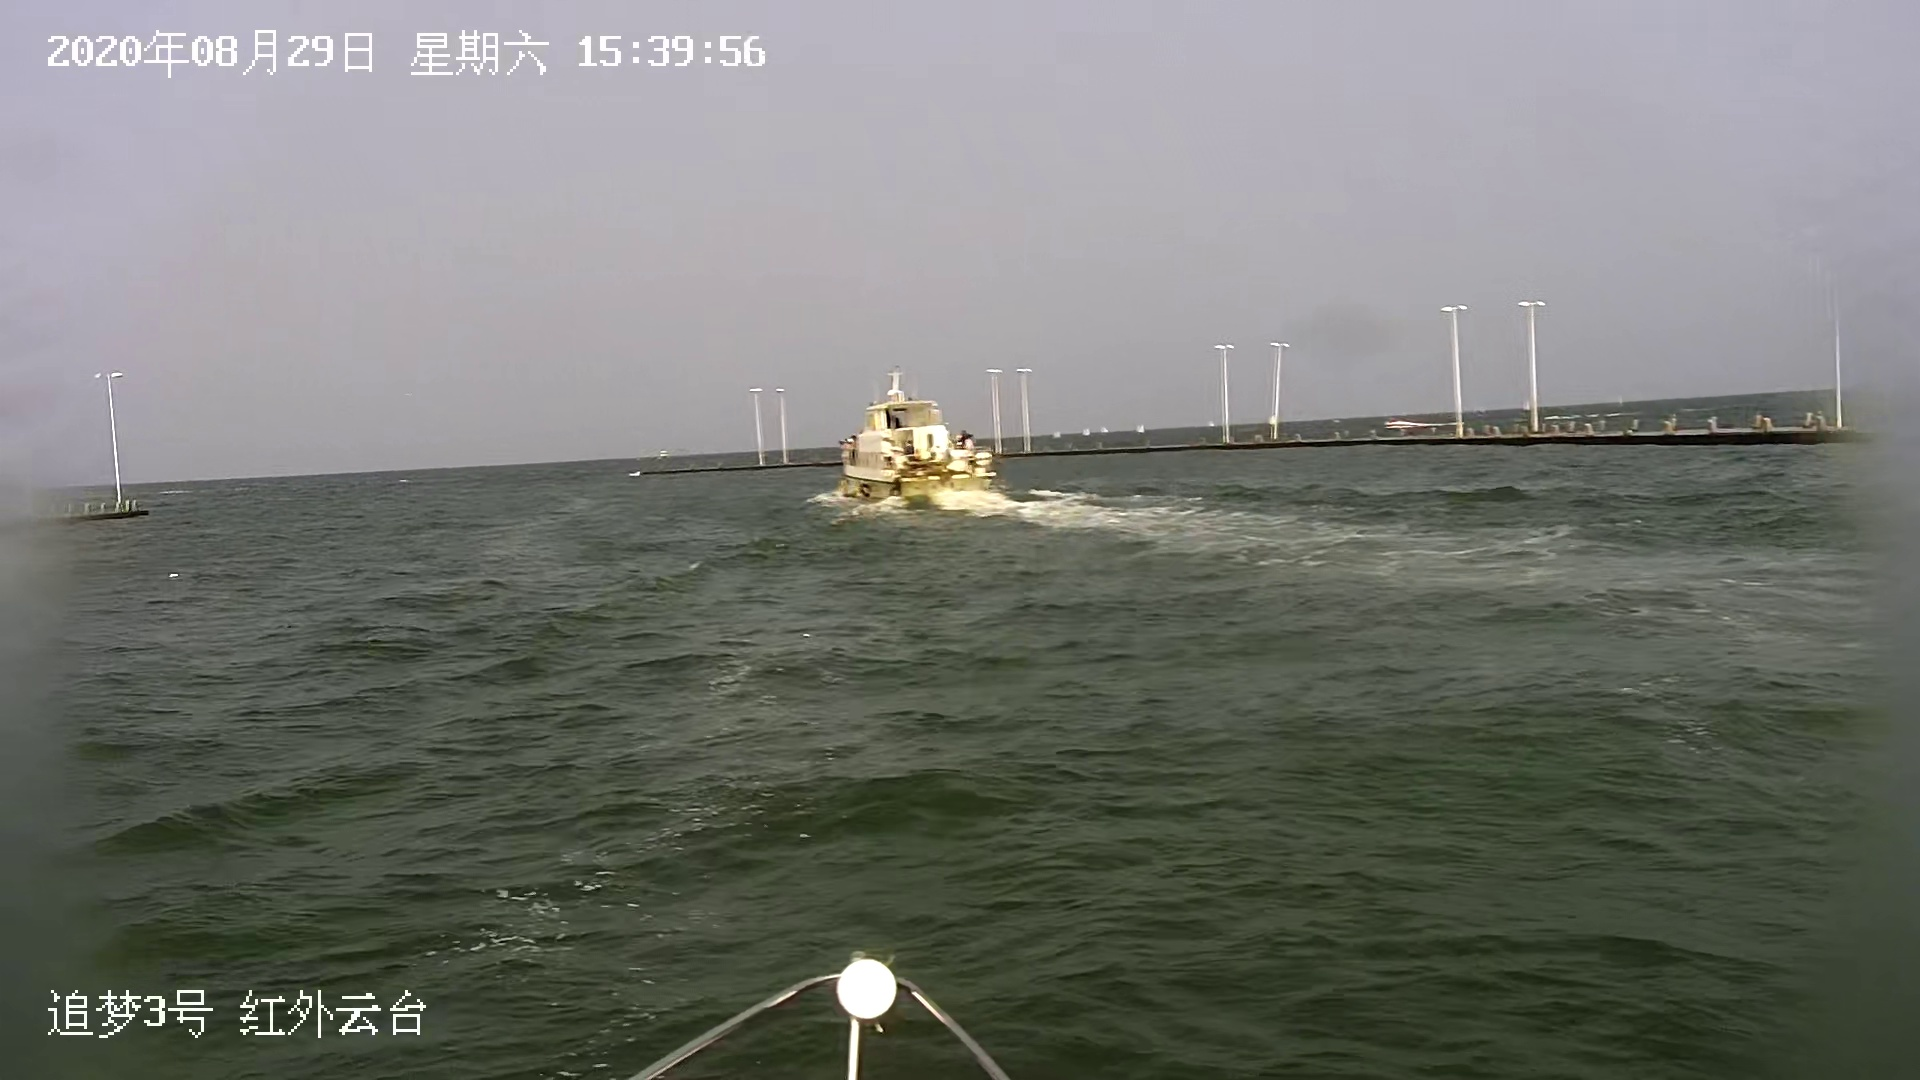barrier: (827, 363, 1005, 502), (1385, 418, 1462, 431), (658, 448, 670, 462), (1050, 430, 1063, 440), (1083, 426, 1093, 436), (1137, 425, 1146, 436), (1101, 426, 1110, 435)
coast: (593, 298, 1900, 477), (1, 371, 153, 524)
